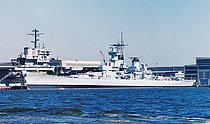MIL_Ship: (20, 41, 197, 87)
